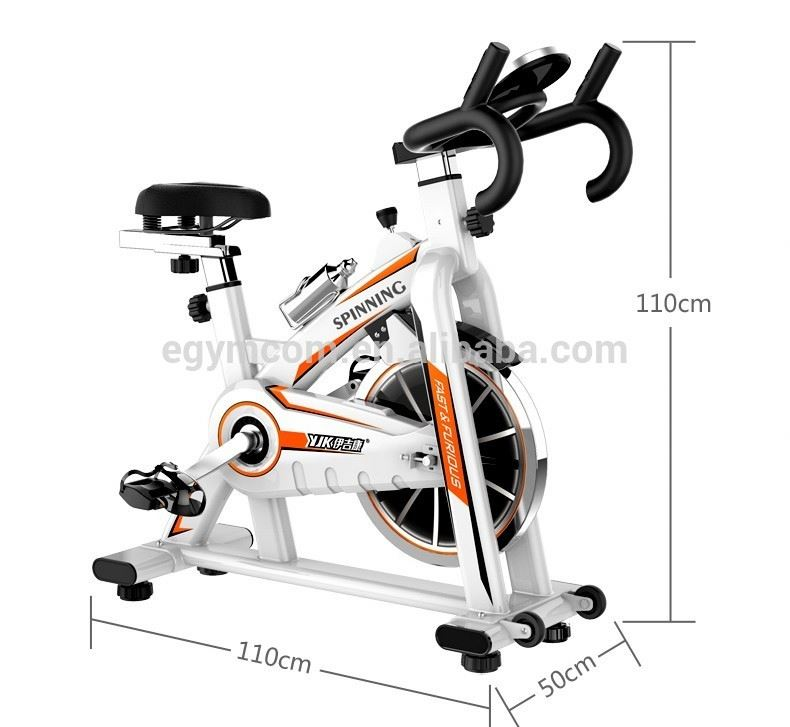gym_bike: (82, 51, 636, 680)
